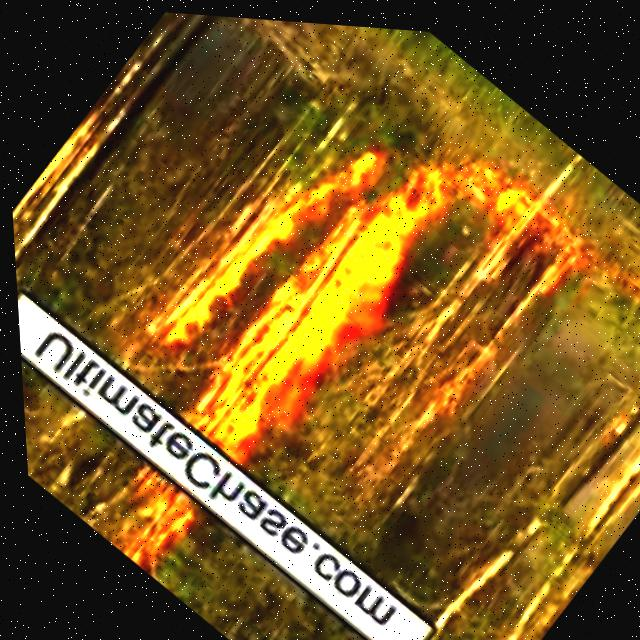Fire: (132, 85, 465, 443), (95, 355, 271, 549), (457, 140, 541, 221)
